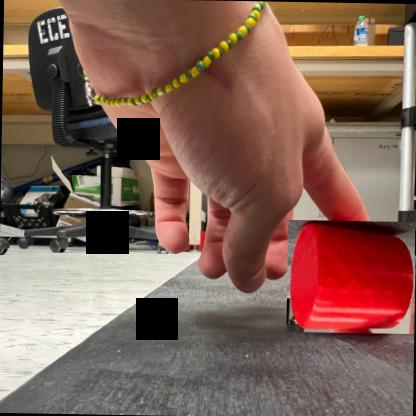red cylinder: (286, 220, 415, 334)
